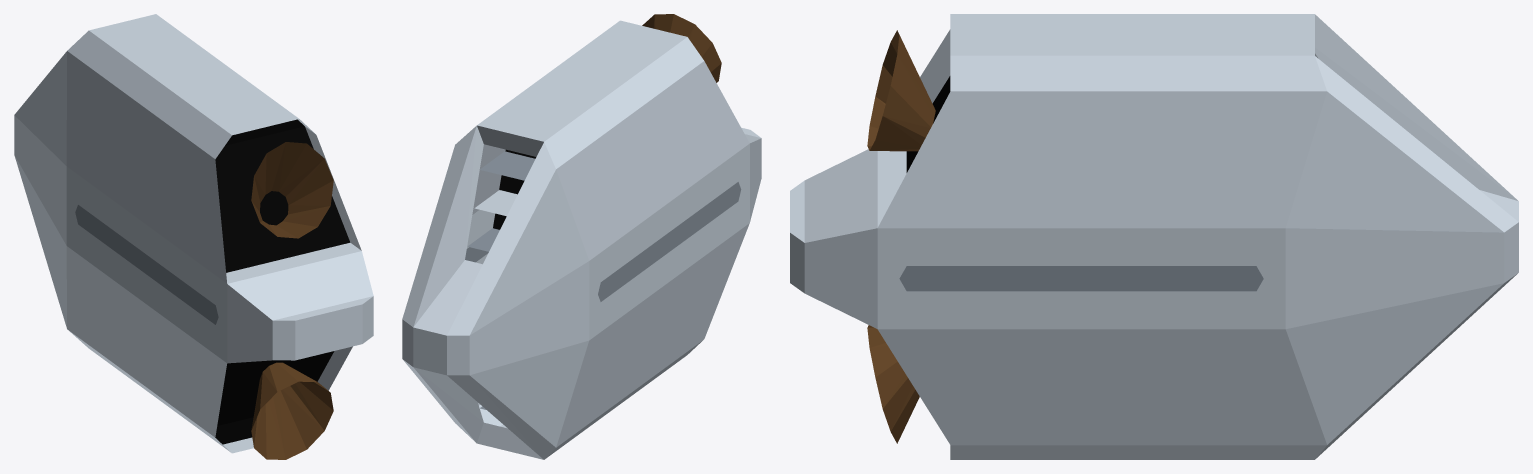
Rendered from Hip.FBX.
The picture shows the model from 3 angles, left to right: view 1: azimuth 30°, elevation 25°; view 2: azimuth 150°, elevation 25°; view 3: azimuth 270°, elevation 25°; orthographic projection. The views are drawn at different scales.
Visible parts, largest first — view 1: VIFS001, VIFS004, VIFS003, VIFS002, VIFS005; view 2: VIFS001, VIFS002, VIFS003, VIFS004; view 3: VIFS001, VIFS002, VIFS003.
Part boxes in pixels (left/top/right/bottom): VIFS001: left=14, top=14, right=373, bottom=453; VIFS004: left=215, top=119, right=350, bottom=444; VIFS003: left=251, top=142, right=333, bottom=459; VIFS002: left=75, top=205, right=218, bottom=324; VIFS005: left=260, top=191, right=288, bottom=225; VIFS001: left=402, top=20, right=761, bottom=459; VIFS002: left=465, top=151, right=741, bottom=409; VIFS003: left=642, top=14, right=721, bottom=82; VIFS004: left=493, top=149, right=536, bottom=229; VIFS001: left=790, top=14, right=1518, bottom=459; VIFS002: left=899, top=266, right=1263, bottom=291; VIFS003: left=867, top=30, right=935, bottom=443.
Size of the model in its own units: 0.2711 by 0.612 by 1.
